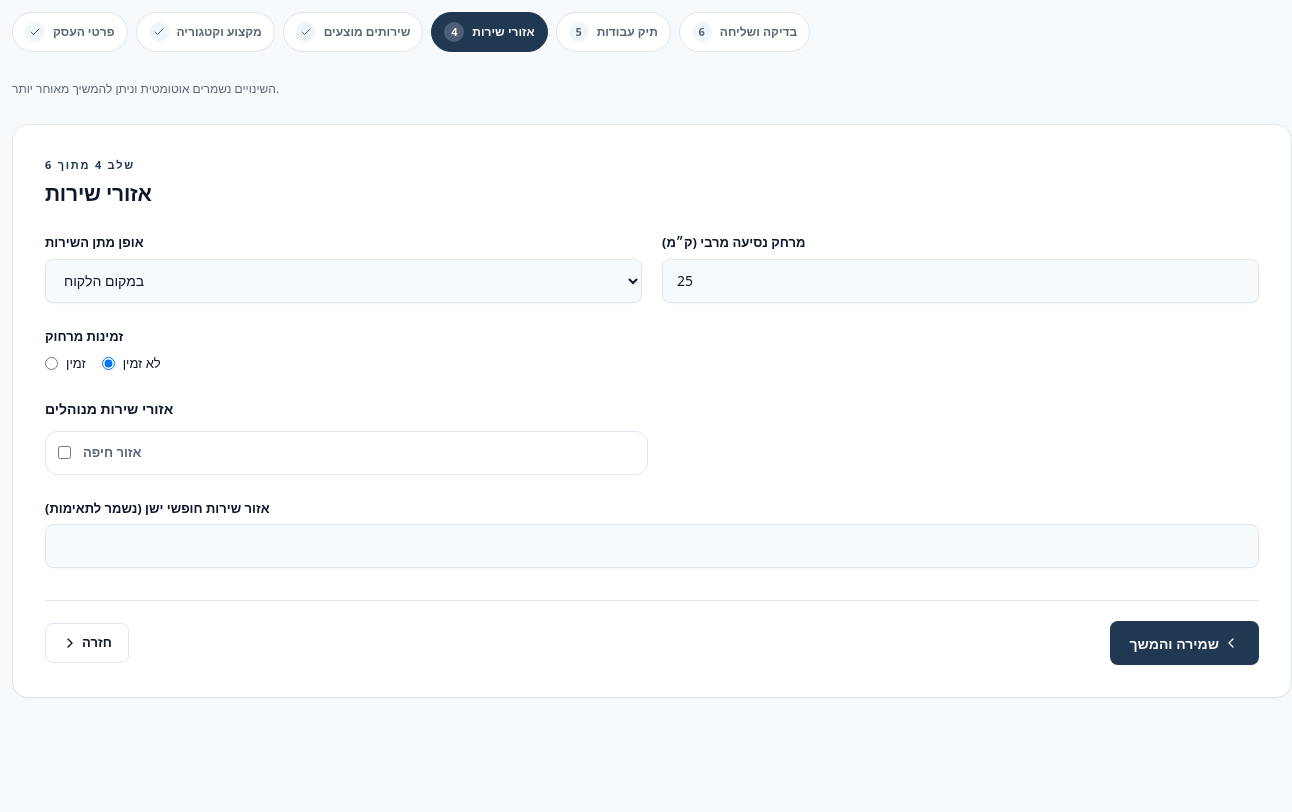
Test: SupplierOnboardingWizard stage validation › still requires an area selection when managed areas are available
Click the button "שמירה והמשך".
click(1184, 643)  # box [1110, 621, 1259, 665]
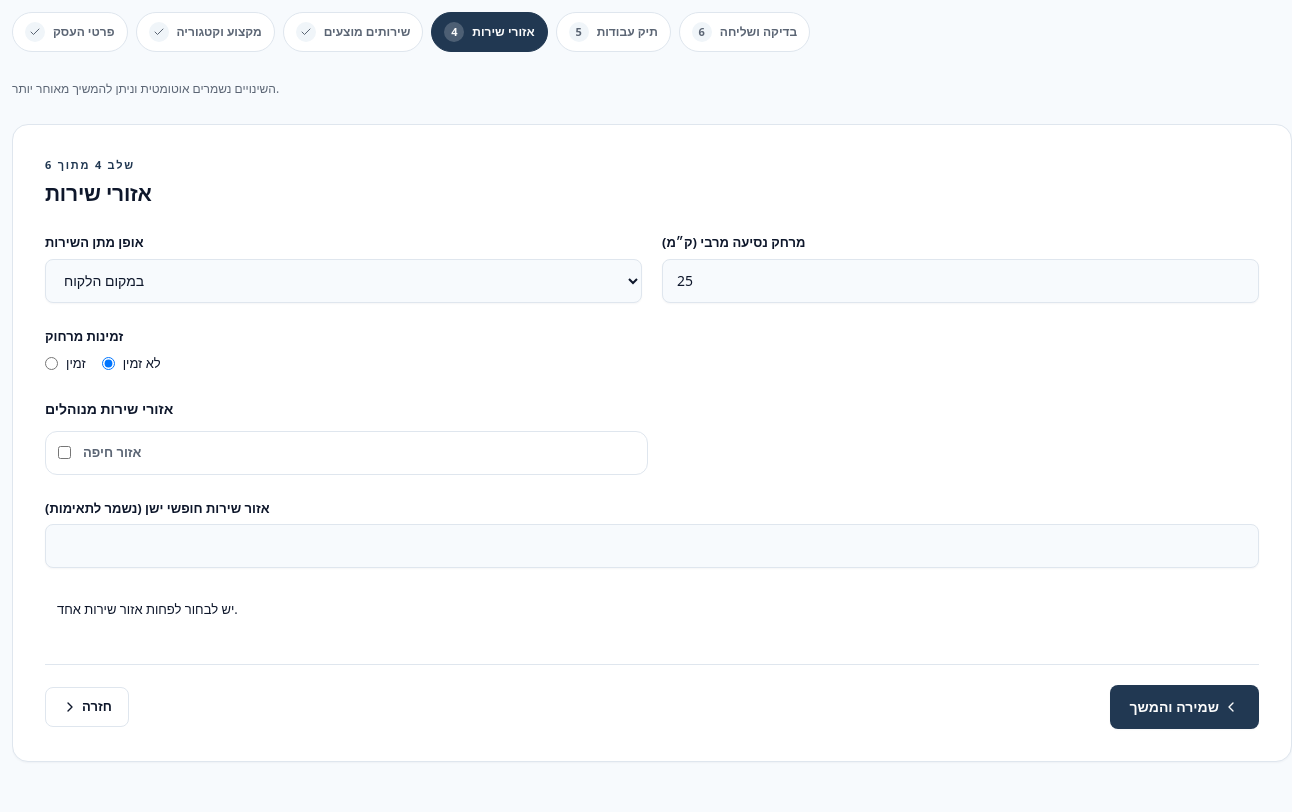
Now the message reads "יש לבחור לפחות אזור שירות אחד.", box [57, 600, 238, 618]
